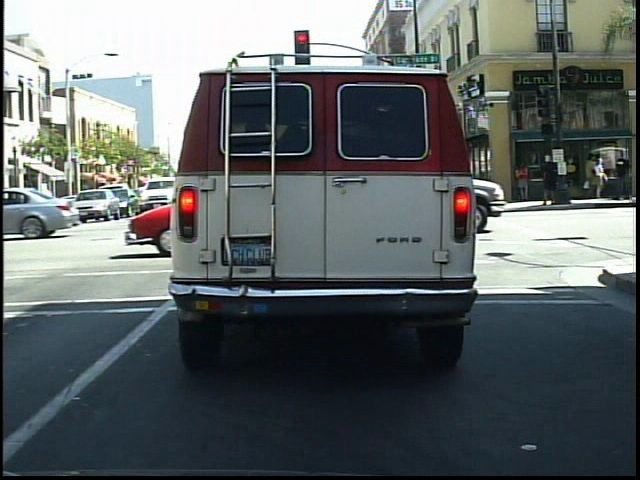person: (612, 141, 636, 209), (539, 151, 562, 208), (514, 156, 534, 205)
